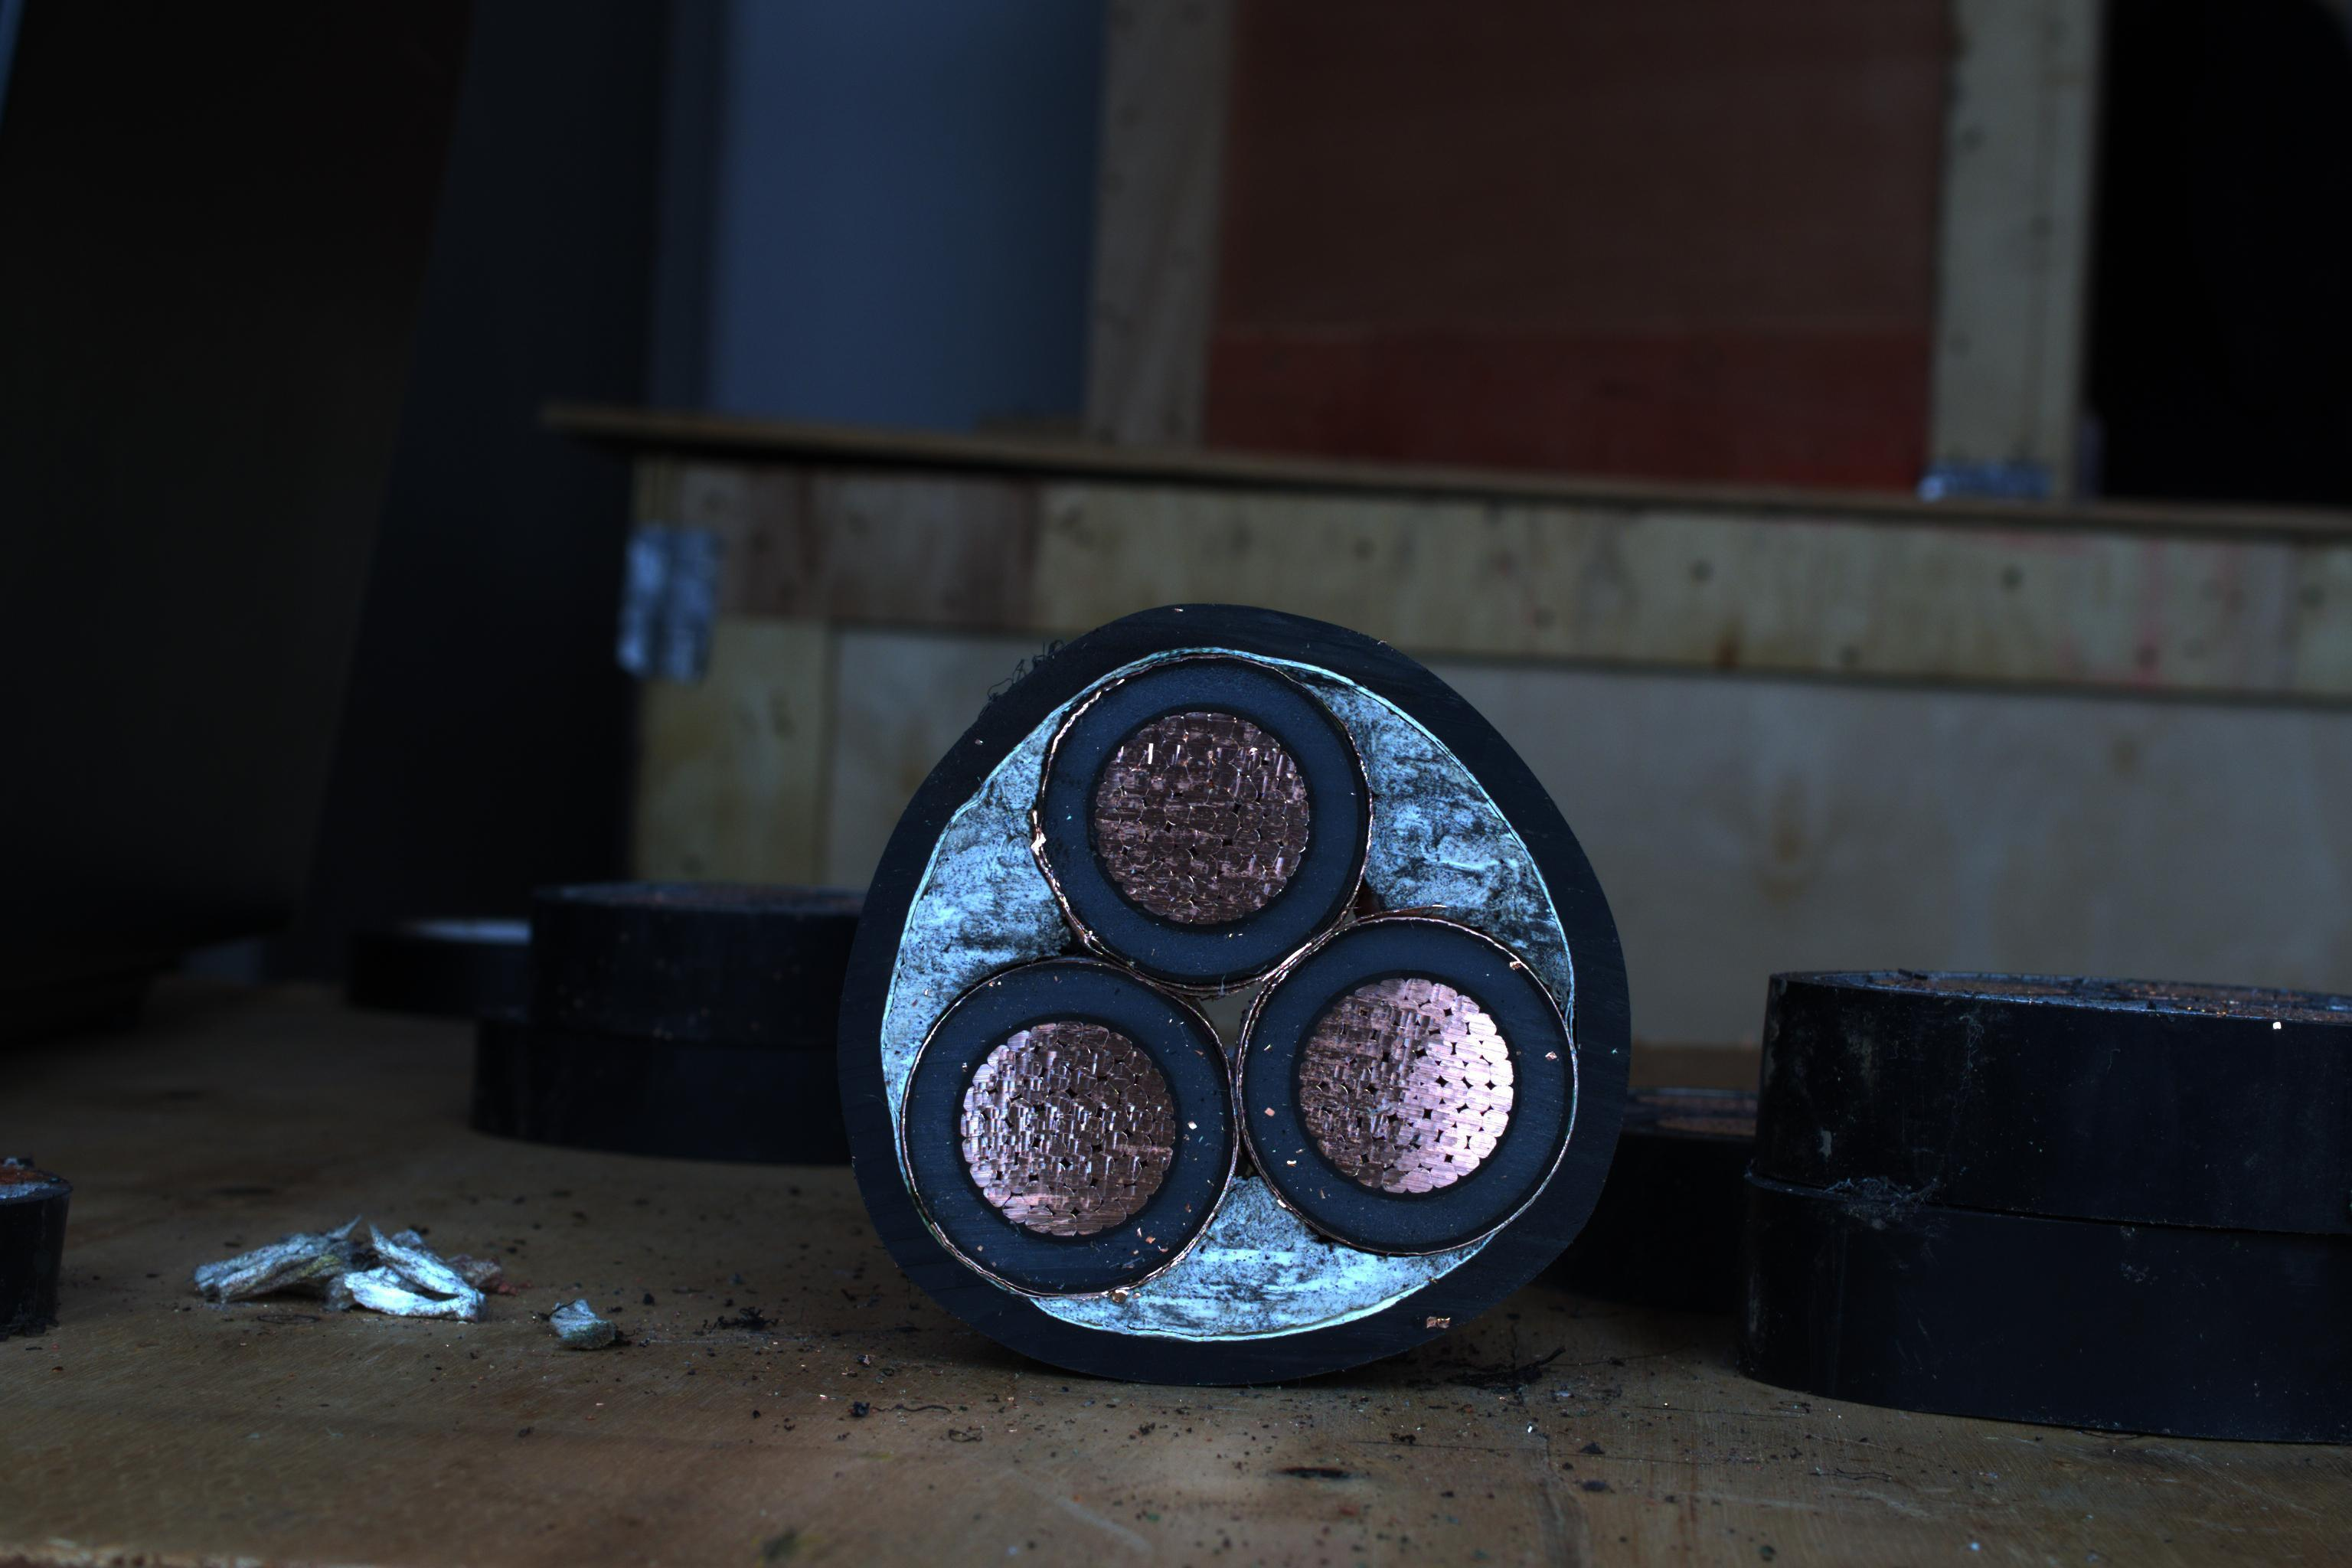ZA_YJV_8.7_10kV_3x400: (856, 600, 1634, 1375)
